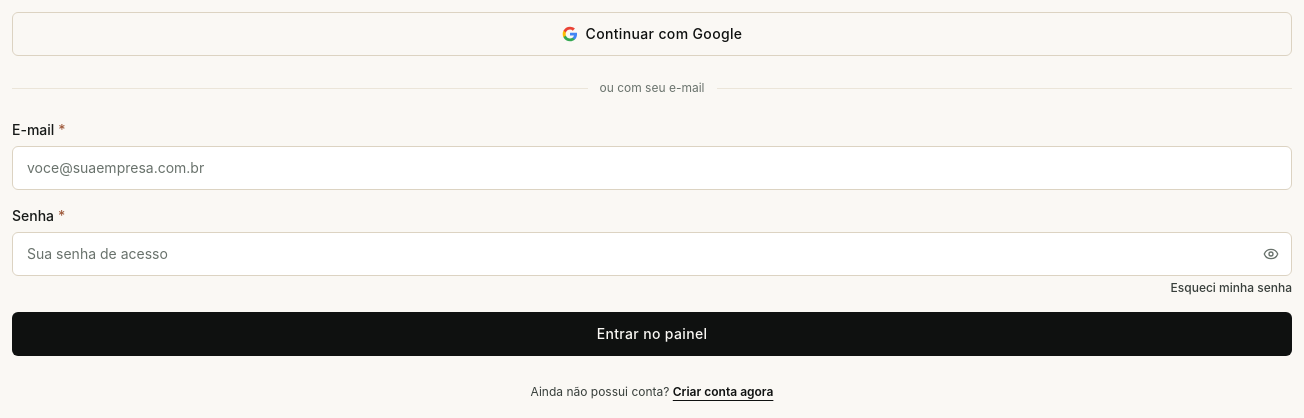
Scenario: Fluxos de Autenticação e Provisionamento de Organização › deve apresentar alerta claro ao encontrar conta vinculada a outro provedor no Google Login
This screenshot has width=1304, height=418.
Click the button "Continuar com Google" at coordinates (652, 34), box [12,12,1292,56]
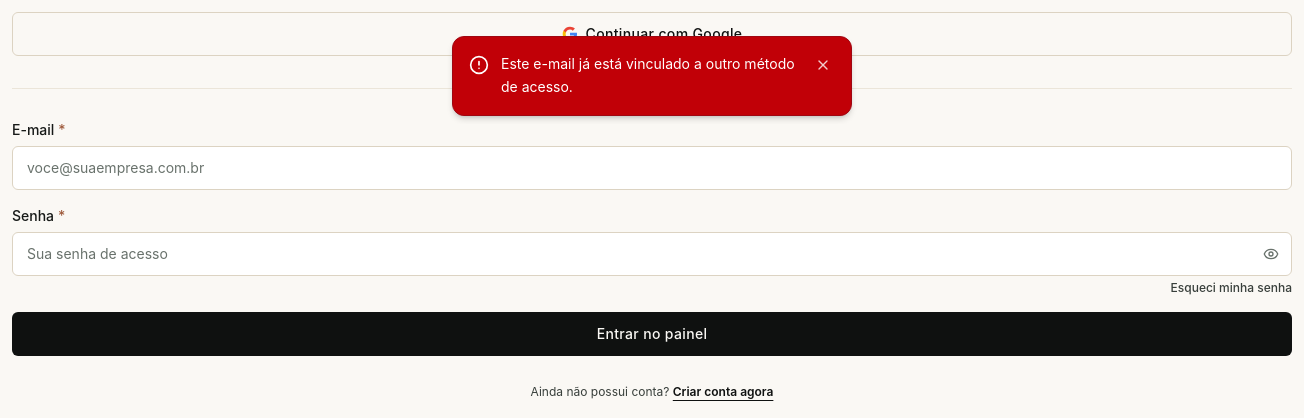
Check: the message shows "vinculado a outro método de acesso", box [501,55,795,95]
